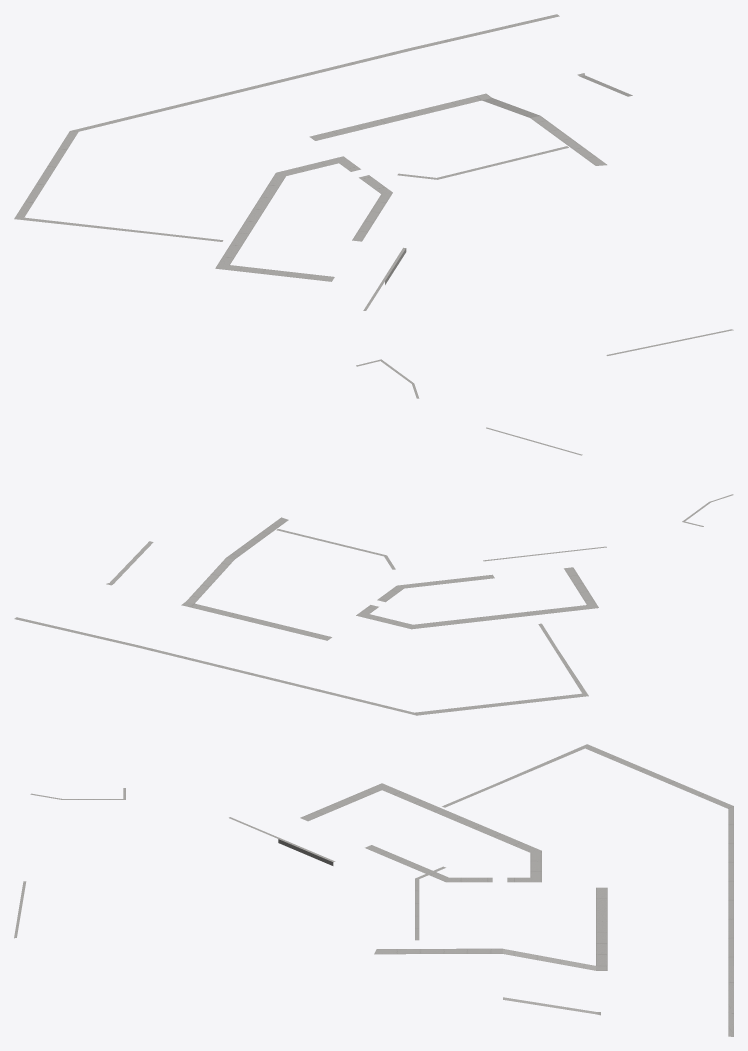
The model's file is kd_stage_13612f_5_37_bounded.glb.
The picture shows the model from 3 angles, top to bottom: view 1: azimuth 30°, elevation 25°; view 2: azimuth 150°, elevation 25°; view 3: azimuth 270°, elevation 25°; orthographic projection. The views are drawn at different scales.
Parts seen in each view (by area): view 1: kd_stage_13612f_5_37_bounded; view 2: kd_stage_13612f_5_37_bounded; view 3: kd_stage_13612f_5_37_bounded.
Part boxes in pixels (x1=…): kd_stage_13612f_5_37_bounded: x1=14, y1=14, x2=733, y2=398; kd_stage_13612f_5_37_bounded: x1=14, y1=427, x2=733, y2=715; kd_stage_13612f_5_37_bounded: x1=14, y1=744, x2=733, y2=1036.
Size of the model in its own units: 23.69 by 0.9238 by 24.79.
1 material, 1 textured.
